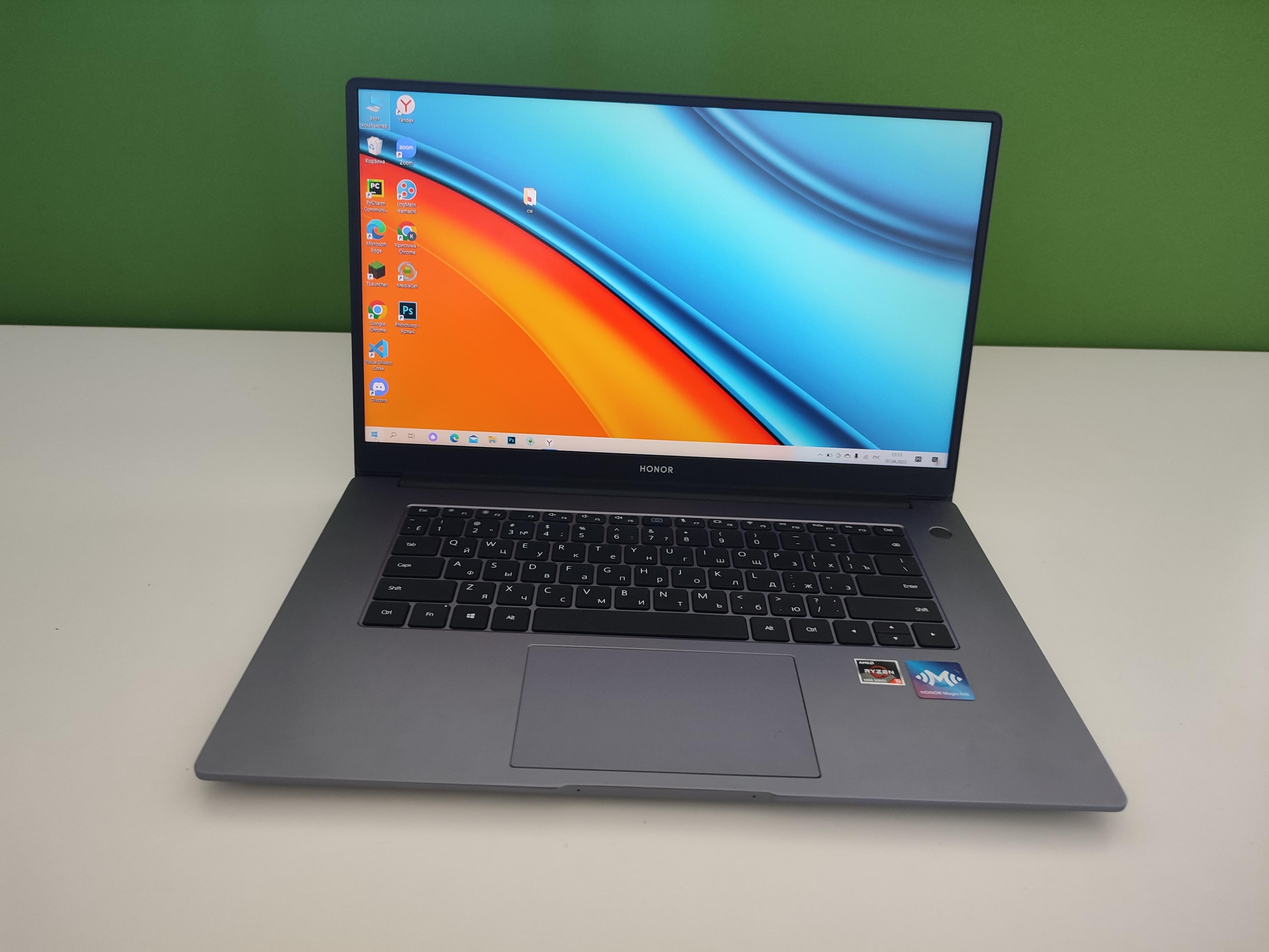monitor: (343, 73, 1007, 511)
